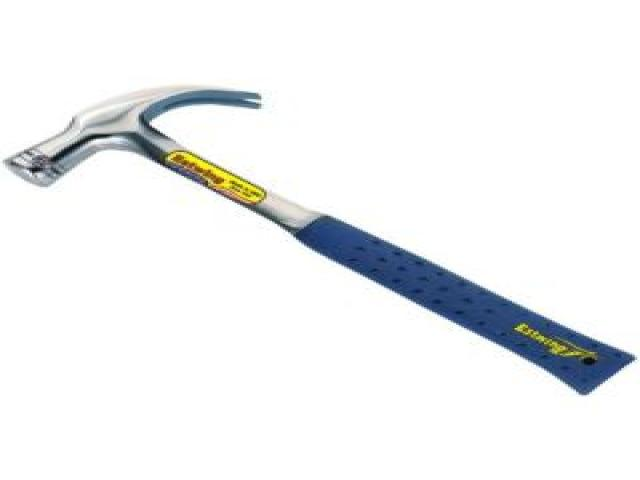Hammer: (5, 86, 633, 393)
